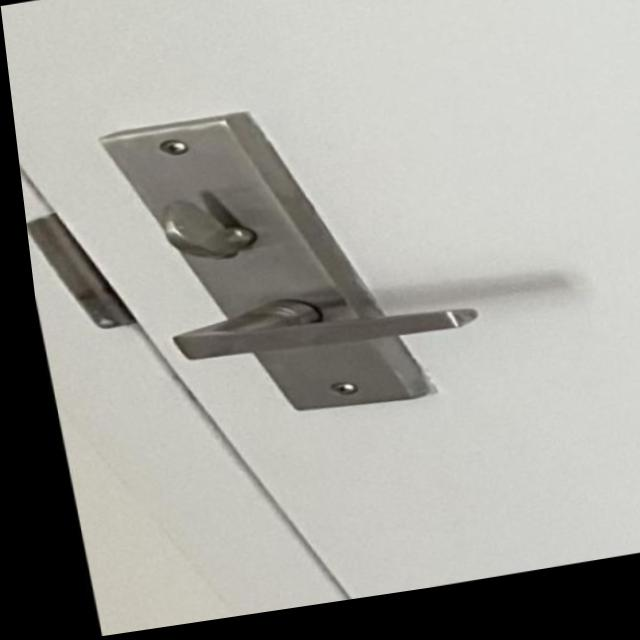door_handle: (124, 267, 498, 407)
